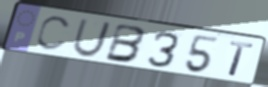3: (146, 30, 182, 69)
5: (183, 32, 220, 75)
B: (103, 22, 149, 65)
C: (34, 15, 74, 53)
T: (227, 40, 256, 80)
U: (70, 18, 114, 59)
